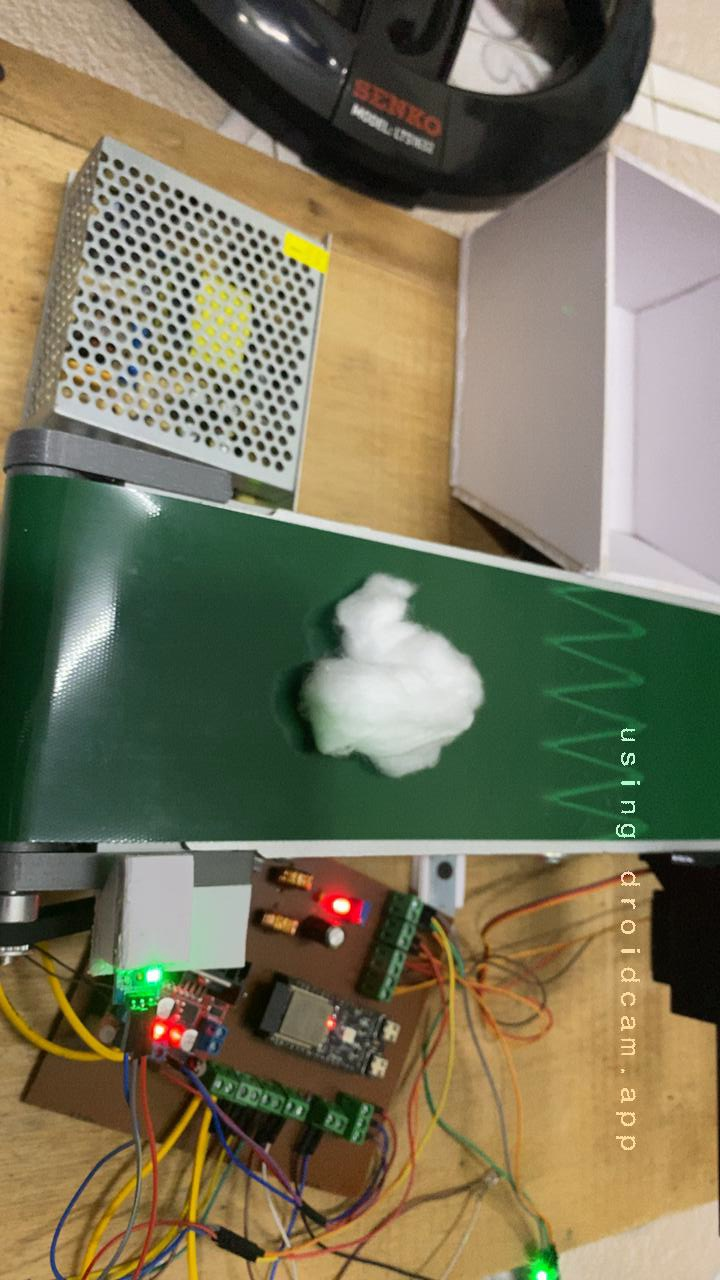cotton: (260, 552, 503, 804)
